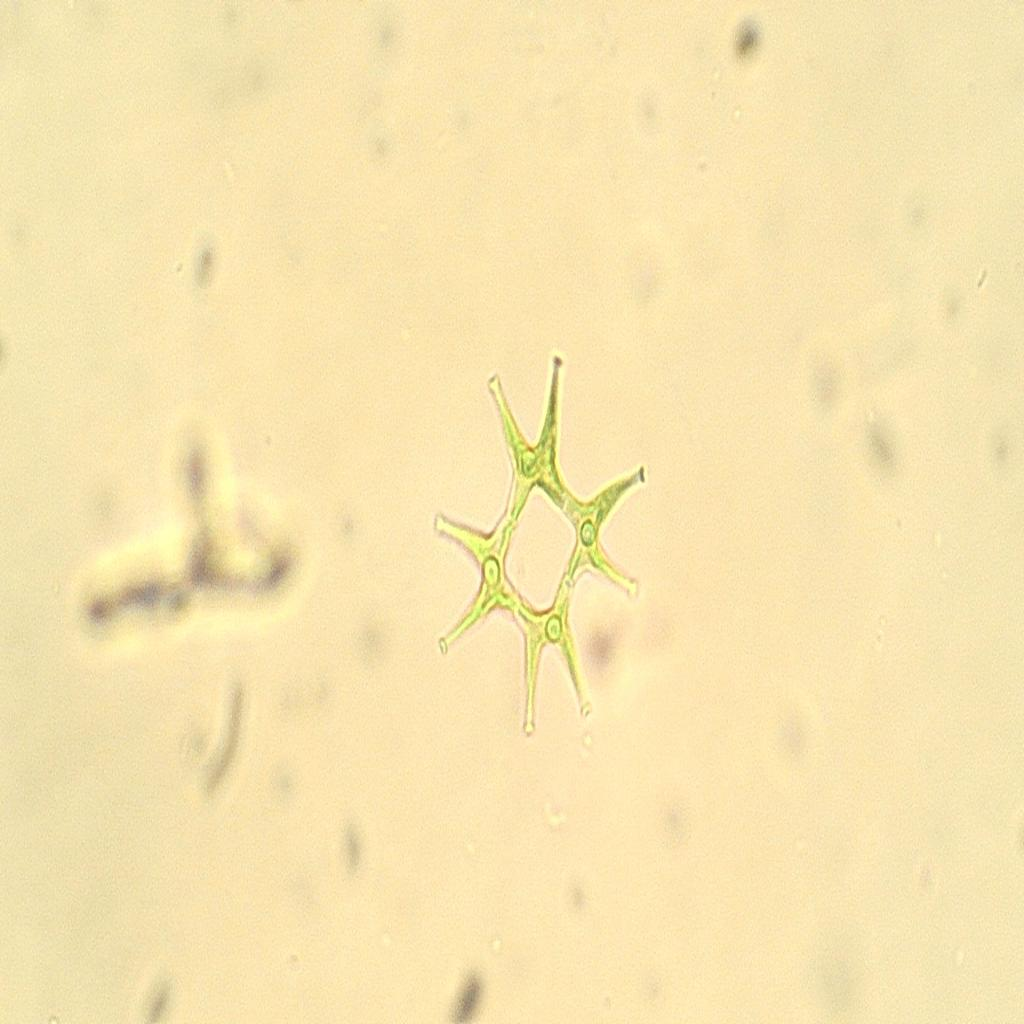Pediastrum_CO: (418, 336, 666, 777)
